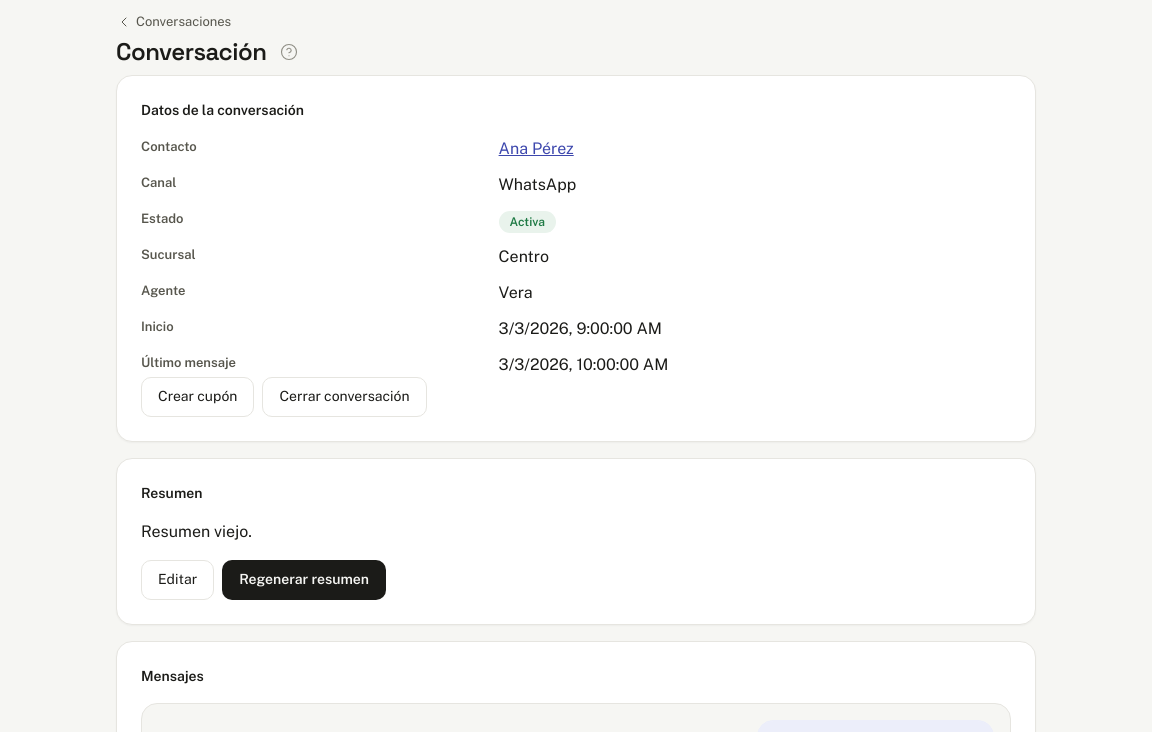
Scenario: ConversationDetail › cancelar no manda nada y deja el brief como estaba
Click the button "Editar": (178, 580) [141,560,214,600]
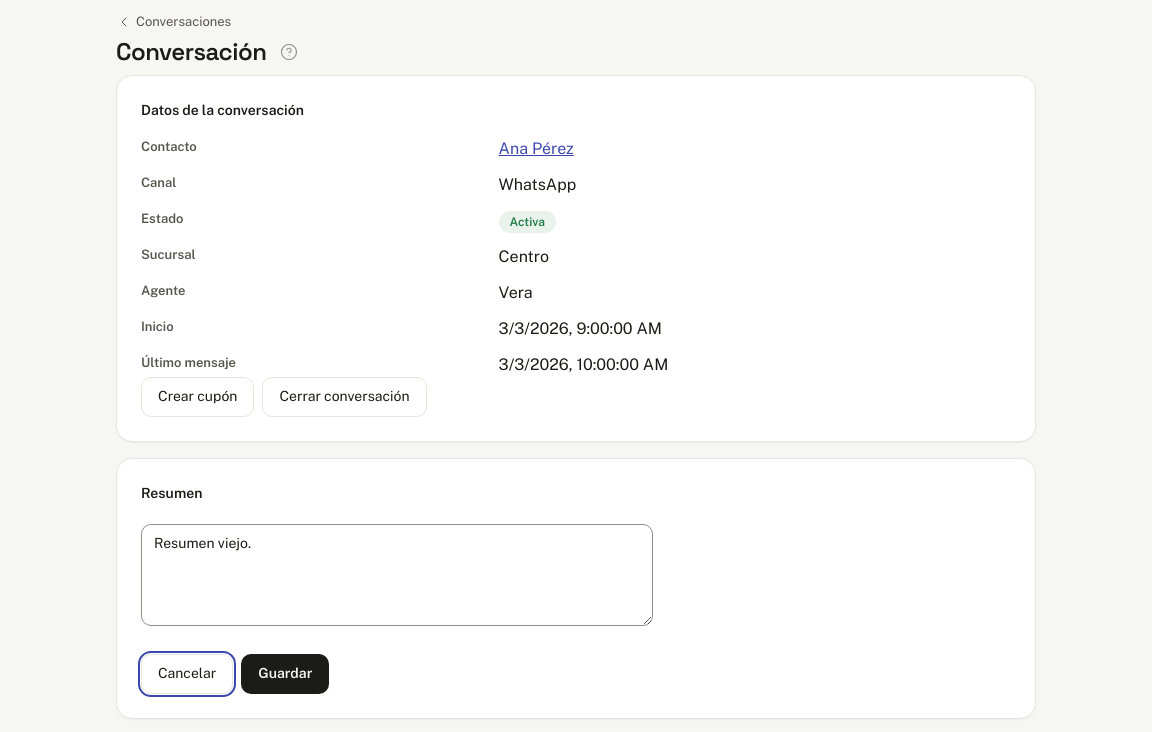
Replace the text in the text box named "Resumen de la conversación" with "algo que no se guarda": (397, 575) [141,524,653,626]
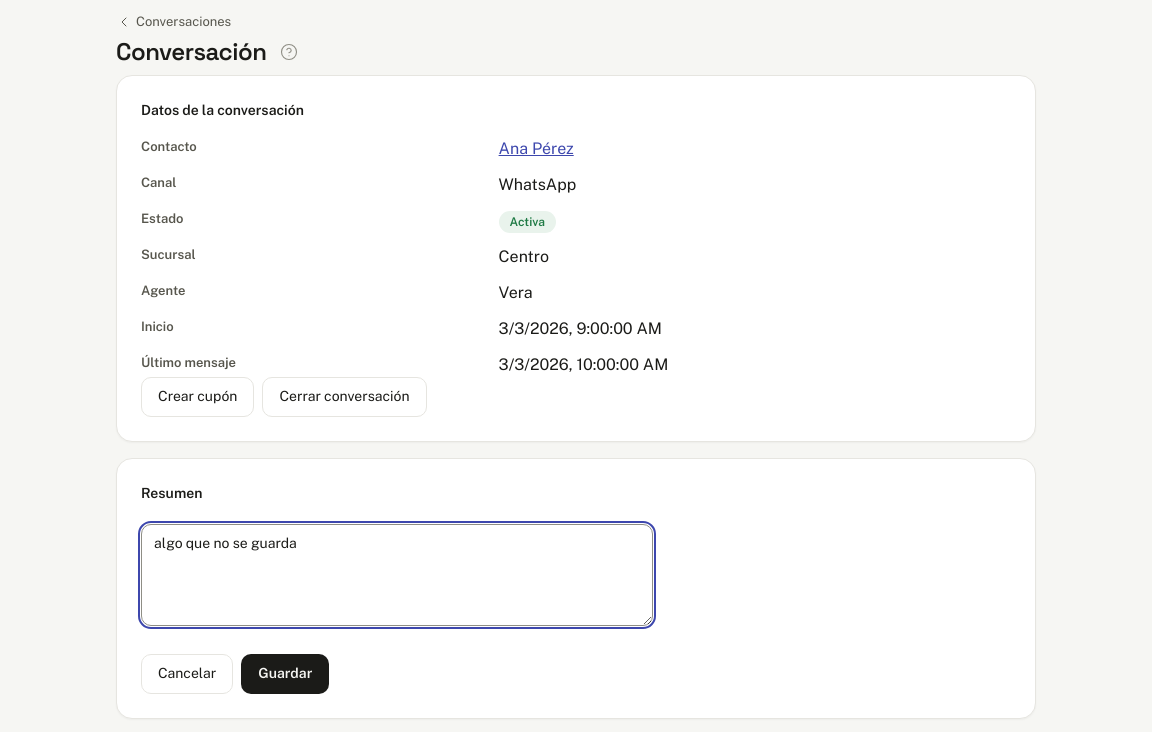
Click the button "Cancelar": (187, 674) [141,654,233,694]
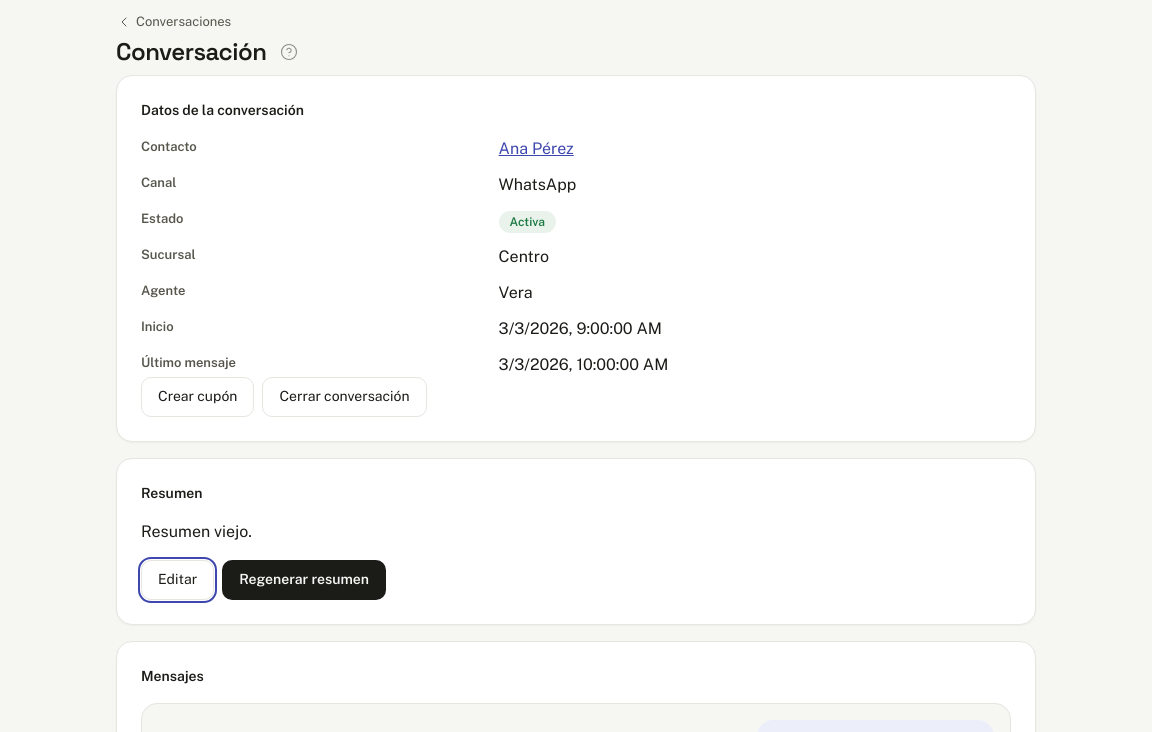
Expected: the field labelled "Resumen de la conversación" is not shown
Expected: the text "Resumen viejo." is shown, [141,522,252,541]
